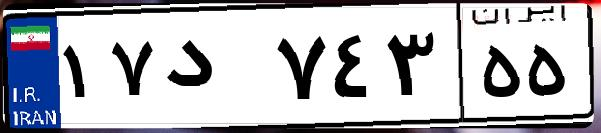1: (57, 26, 110, 100)
3: (385, 28, 445, 110)
4: (330, 28, 385, 110)
5: (475, 38, 525, 113), (525, 38, 570, 115)
7: (270, 28, 330, 110), (110, 28, 158, 98)
د: (158, 20, 270, 120)
